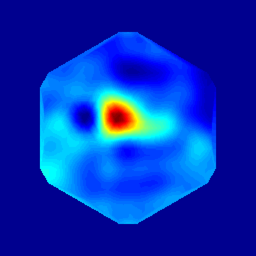ship: (81, 107, 101, 126)
wave: (95, 102, 167, 128)
